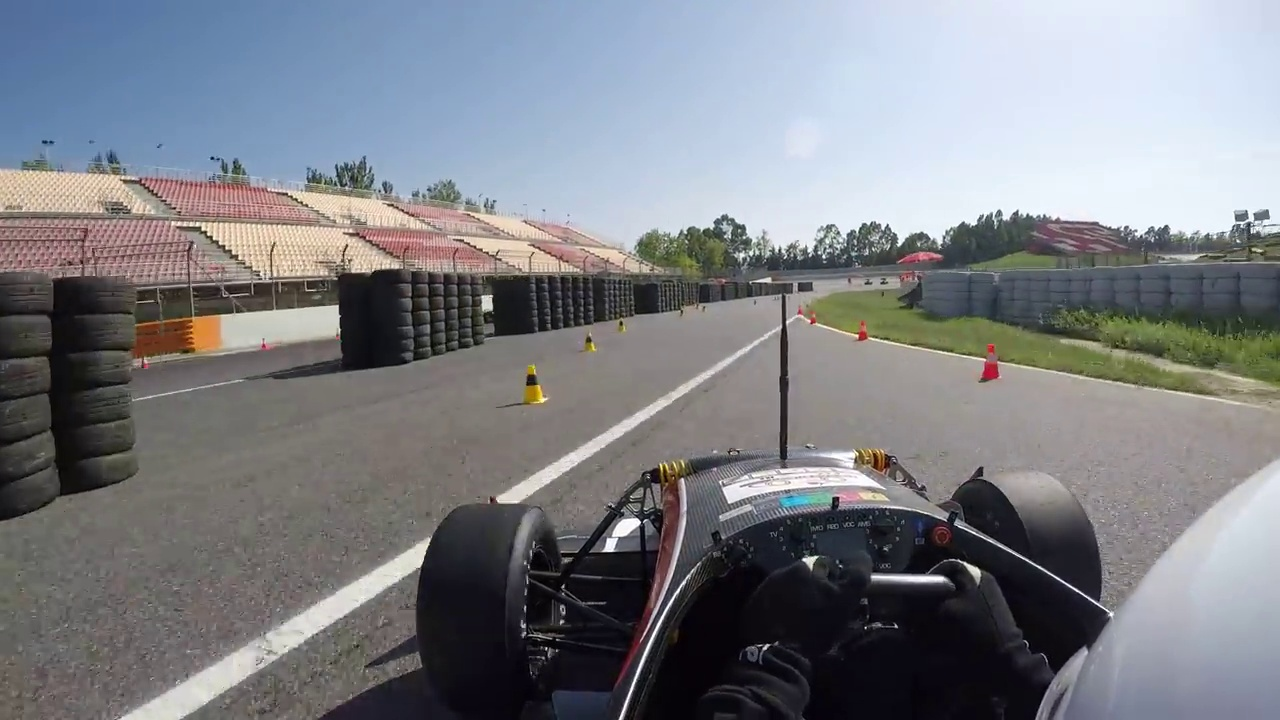Cone: (979, 341, 1008, 381), (521, 361, 544, 408)
